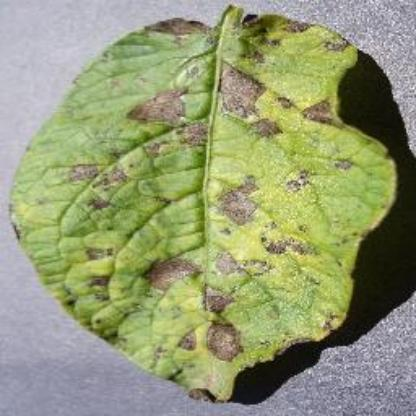Early-Blight: (11, 5, 404, 406)
